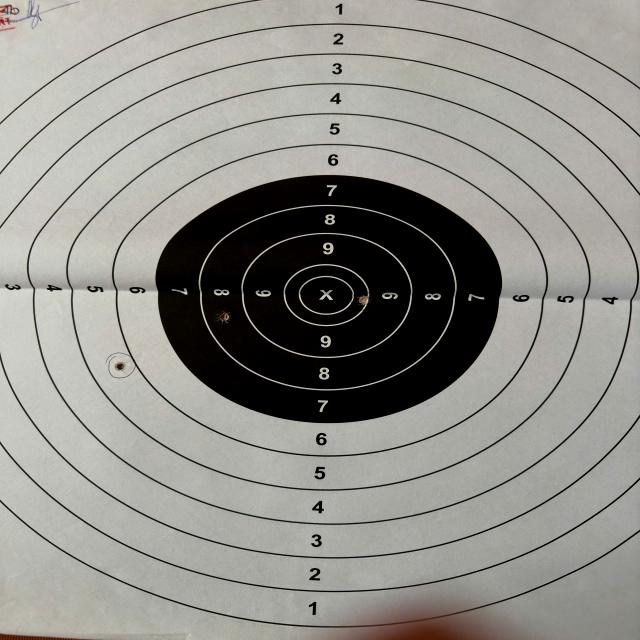bullet: (217, 312, 231, 323), (114, 362, 126, 371), (358, 296, 368, 303)
target: (0, 0, 640, 640)
